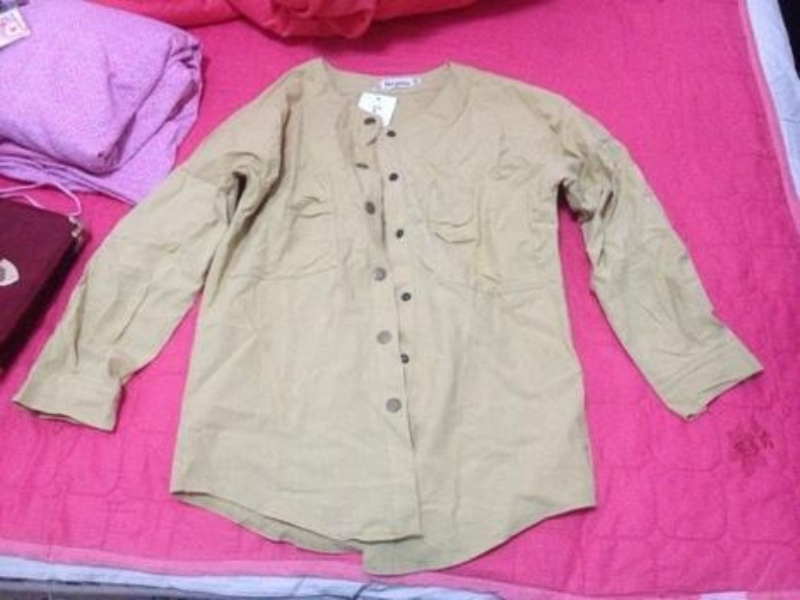long_sleeved_outwear: (7, 53, 768, 579)
